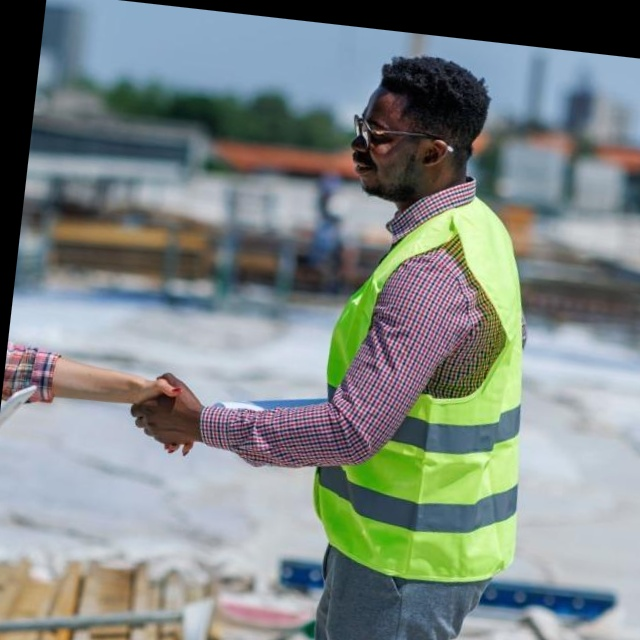Con_Chaleco: (302, 201, 553, 587)
Sin_Casco_Mascarrilla: (342, 49, 494, 209)
